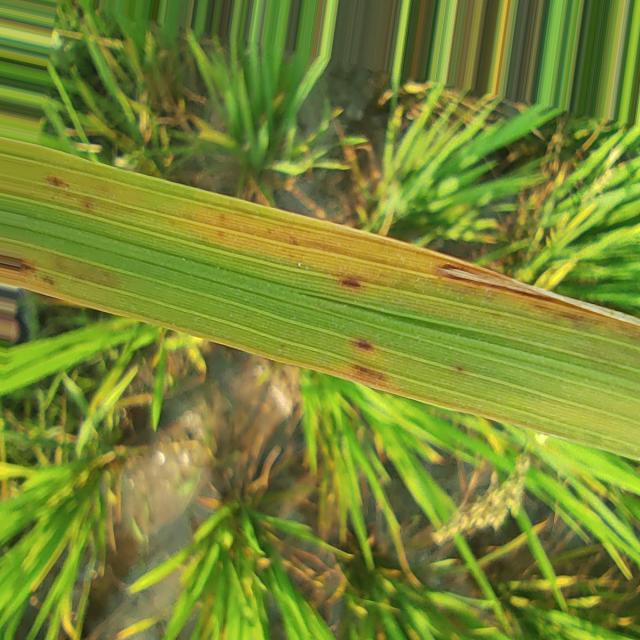Brown_Spot: (0, 250, 35, 284), (351, 363, 386, 390), (45, 175, 70, 188), (354, 338, 374, 351), (340, 277, 361, 288), (41, 273, 55, 287), (81, 197, 92, 210), (452, 365, 464, 373)
